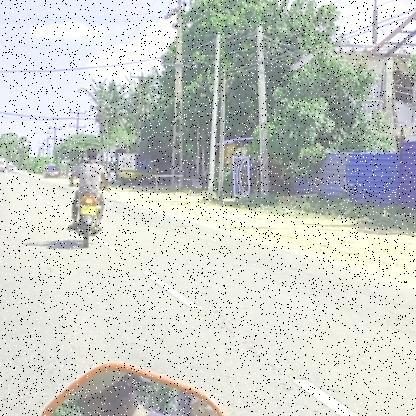motorcycle: (66, 190, 106, 250)
